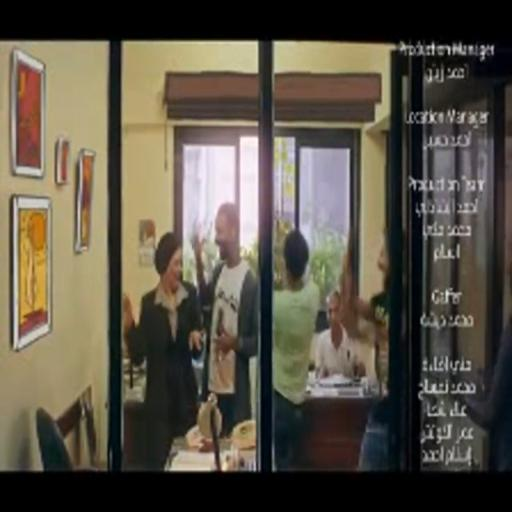nao-violencia: (122, 193, 259, 472)
